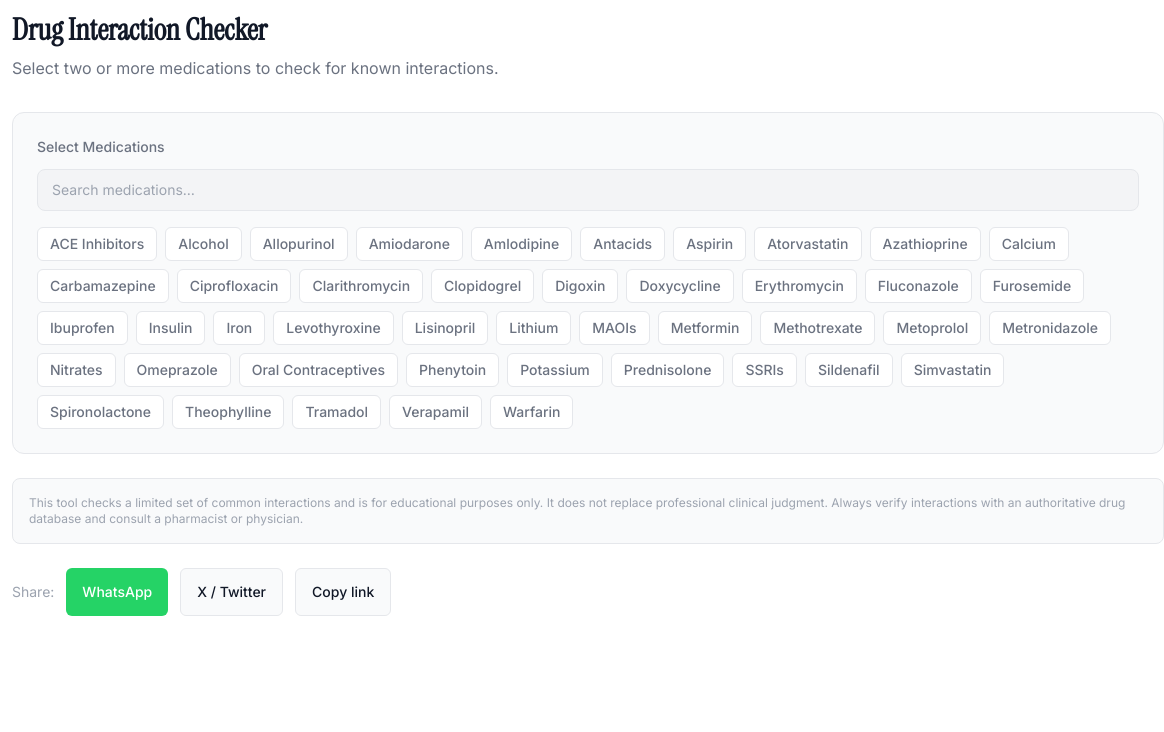
Test: DrugInteractionChecker › filters drug buttons with the search box
Type "warf" into the search field labelled "Search medications". click: (588, 190)
box: [37,169,1139,211]
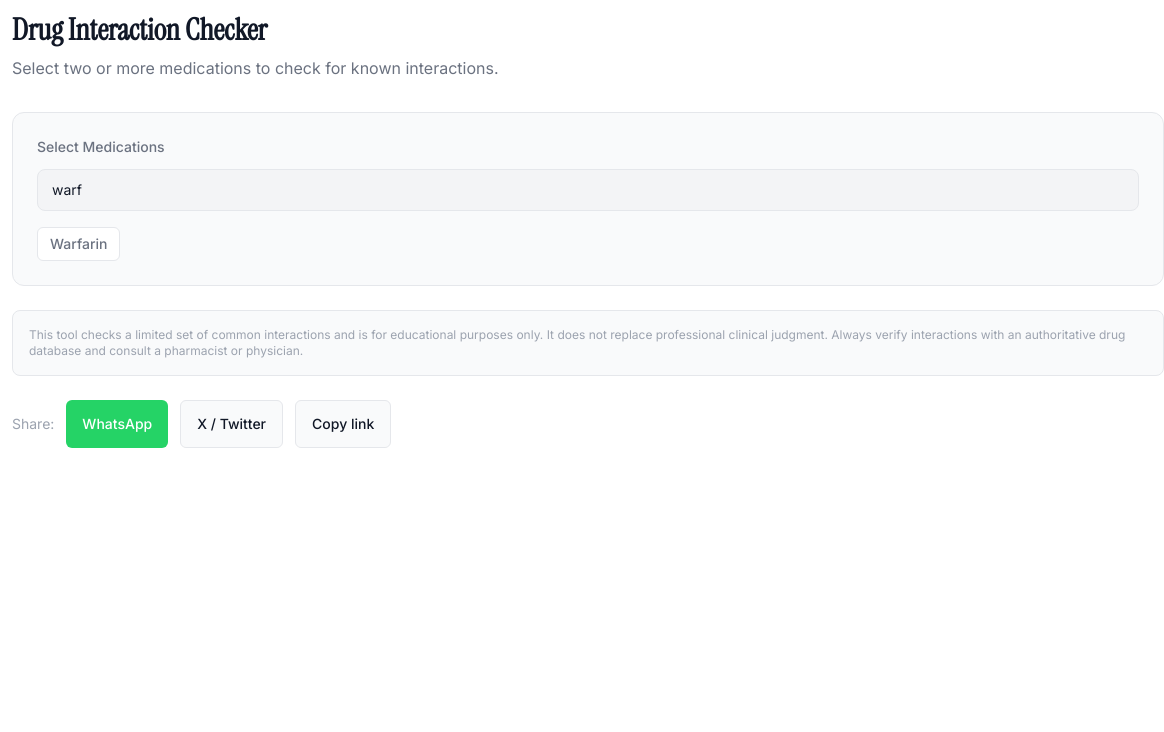
Expected: the button "Warfarin" is shown, [37,227,120,261]
Now the button "Aspirin" is gone
